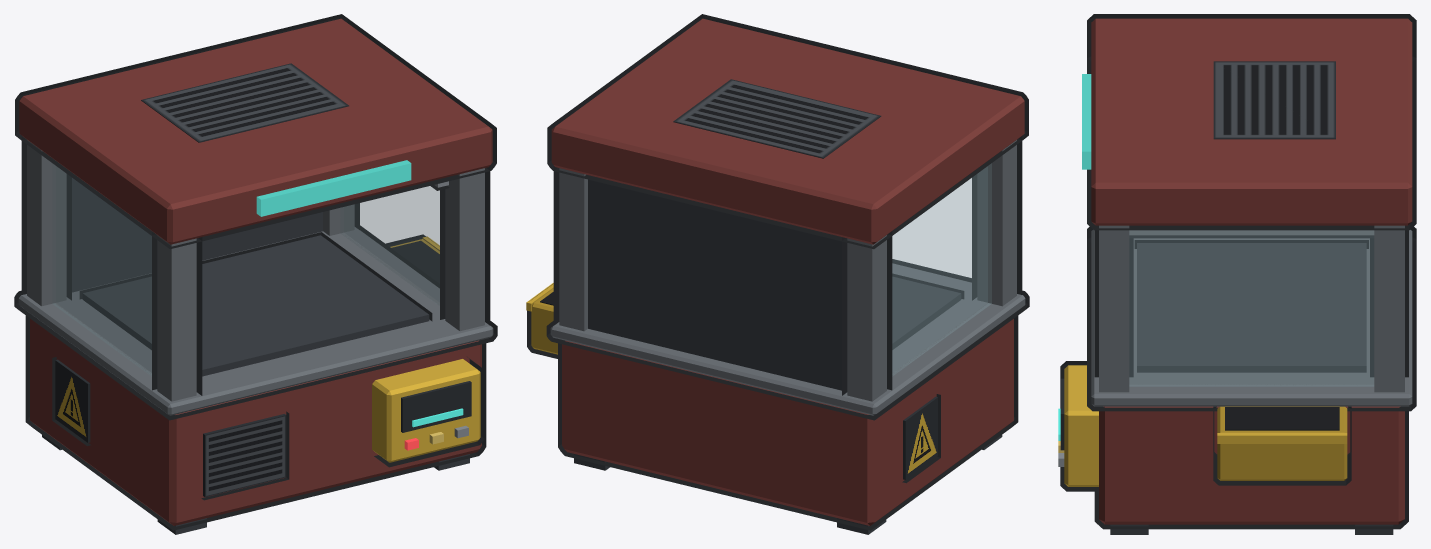
File: SM_Printer.glb
3 views of the same model, side by side, from view 1: azimuth 30°, elevation 25°; view 2: azimuth 150°, elevation 25°; view 3: azimuth 270°, elevation 25° (orthographic). The views are drawn at different scales.
Parts seen in each view (by area): view 1: SM_Printer, SM_Printer_Glass, SM_Printer_Outline, SM_Printer_Status; view 2: SM_Printer, SM_Printer_Outline, SM_Printer_Glass; view 3: SM_Printer, SM_Printer_Glass, SM_Printer_Outline, SM_Printer_Status.
Part boxes in pixels (x1,y1,x2,y2): SM_Printer: [18, 18, 493, 534]; SM_Printer_Glass: [52, 164, 439, 376]; SM_Printer_Outline: [14, 14, 497, 530]; SM_Printer_Status: [256, 160, 411, 216]; SM_Printer: [526, 18, 1025, 534]; SM_Printer_Outline: [527, 14, 1029, 530]; SM_Printer_Glass: [892, 164, 991, 375]; SM_Printer: [1058, 18, 1412, 534]; SM_Printer_Glass: [1129, 230, 1373, 386]; SM_Printer_Outline: [1060, 14, 1416, 529]; SM_Printer_Status: [1082, 74, 1091, 169].
Size of the model in its own units: 1.71 by 1.46 by 1.31.
Materials: 4 (1 with a texture image).
